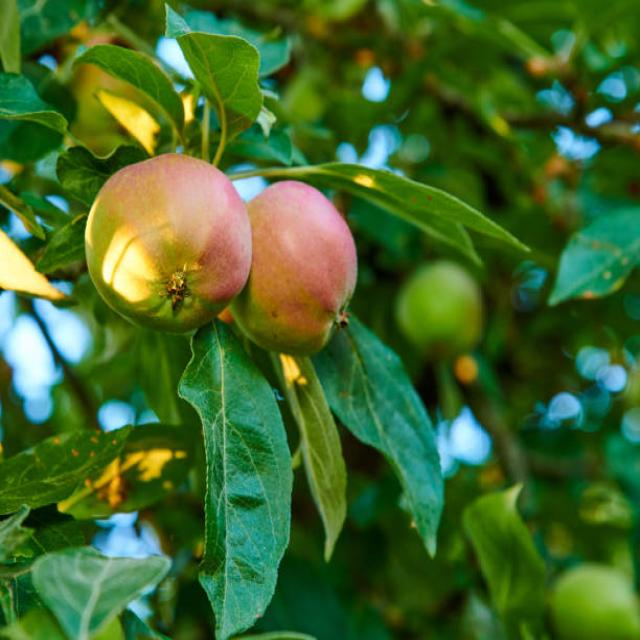Unripe: (85, 152, 253, 336), (230, 178, 357, 355)
